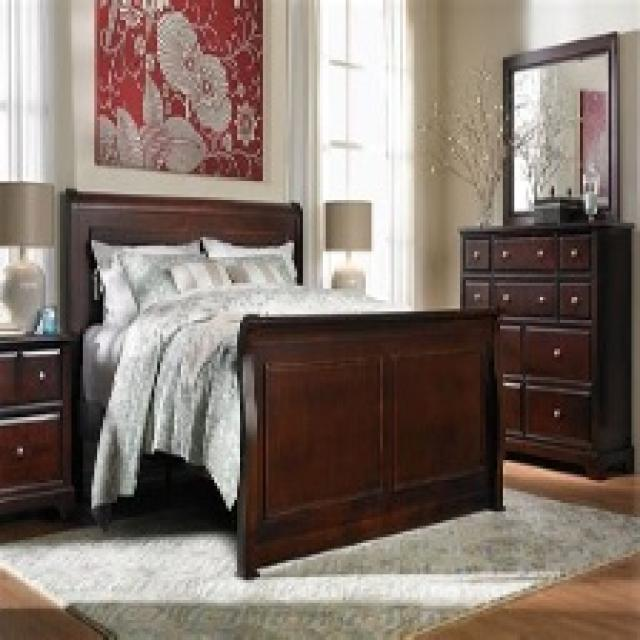Bed: (57, 186, 506, 577)
